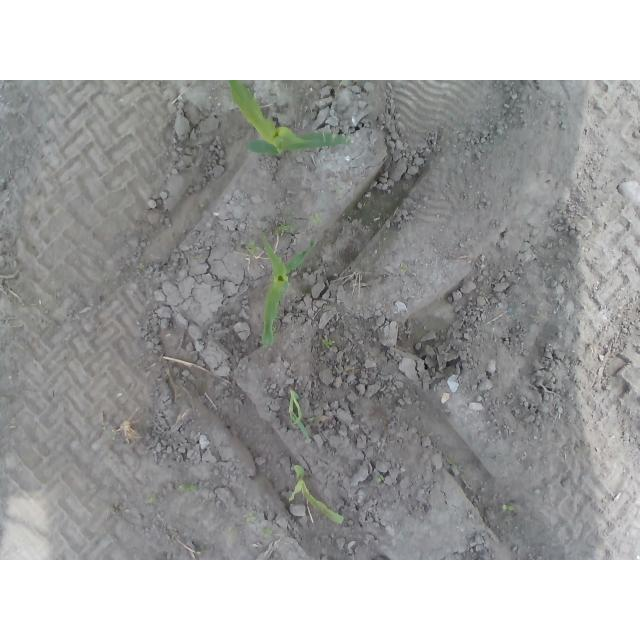Maize: (228, 80, 354, 162), (260, 229, 319, 354), (284, 463, 348, 528)
Weeds: (288, 385, 314, 443), (246, 240, 260, 257), (177, 483, 200, 493), (320, 336, 336, 348), (261, 527, 274, 538), (311, 214, 322, 227), (146, 493, 157, 504), (276, 223, 288, 233), (502, 503, 515, 512), (447, 455, 457, 466), (244, 513, 256, 522), (288, 211, 297, 221), (374, 474, 384, 482), (336, 187, 344, 194)
